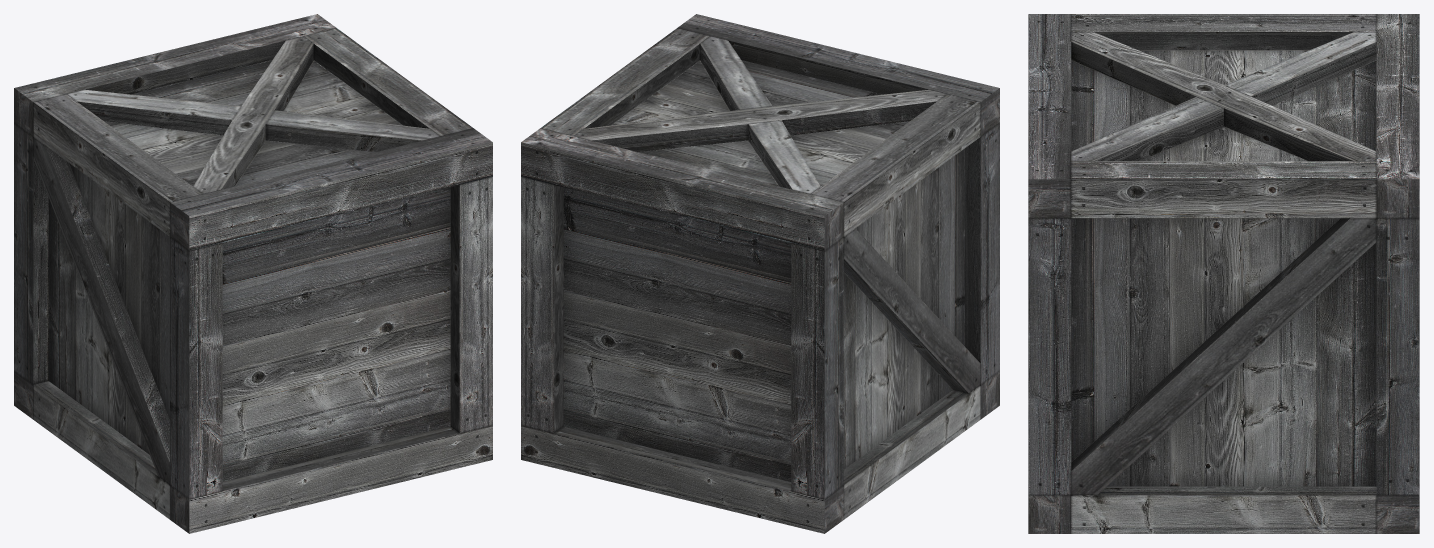
The model's file is crate_basic.dae.
3 views of the same model, side by side, from view 1: azimuth 30°, elevation 25°; view 2: azimuth 150°, elevation 25°; view 3: azimuth 270°, elevation 25° (orthographic). The views are drawn at different scales.
Parts seen in each view (by area): view 1: Crate.Basic; view 2: Crate.Basic; view 3: Crate.Basic.
Part boxes in pixels (x1=…): Crate.Basic: x1=14, y1=14, x2=492, y2=533; Crate.Basic: x1=521, y1=14, x2=999, y2=533; Crate.Basic: x1=1028, y1=14, x2=1419, y2=533.
Size of what is drawn, in the model's own units: 0.74 by 0.74 by 0.74.
Materials: 1 (1 with a texture image).
